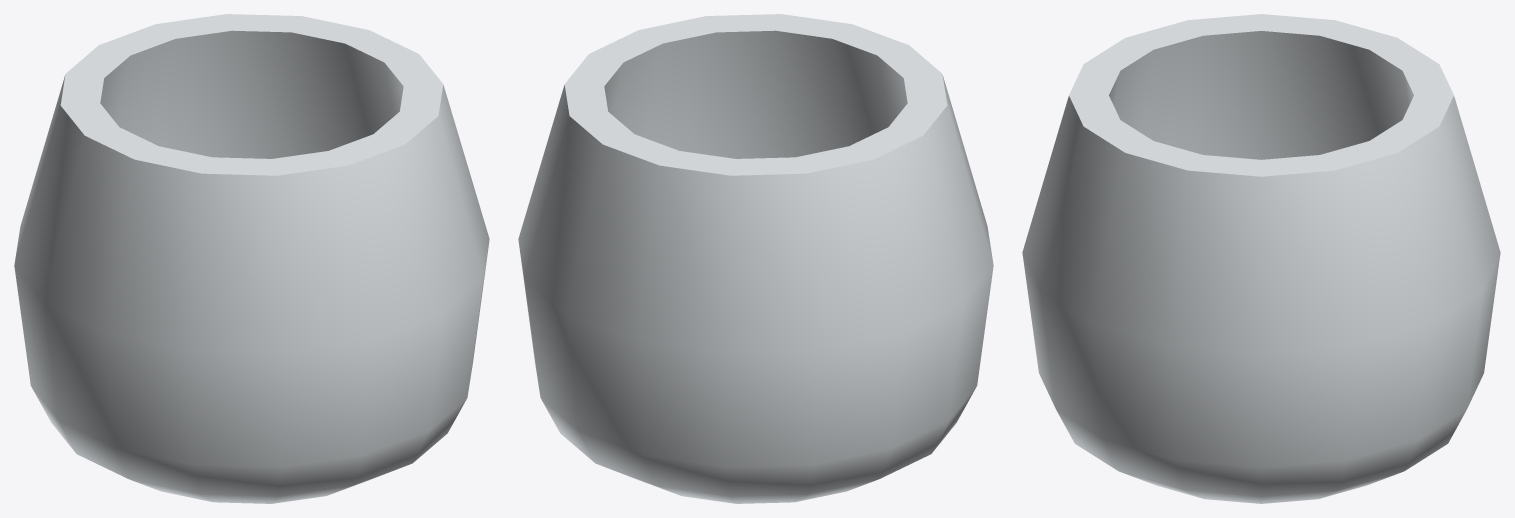
Rendered from SmallCandle.obj.
3 renders of one model, left to right at view 1: azimuth 30°, elevation 25°; view 2: azimuth 150°, elevation 25°; view 3: azimuth 270°, elevation 25°, orthographic.
Parts seen in each view (by area): view 1: SmallCandle_SmallCandleMesh; view 2: SmallCandle_SmallCandleMesh; view 3: SmallCandle_SmallCandleMesh.
Part boxes in pixels (x1,y1,x2,y2): SmallCandle_SmallCandleMesh: [14, 14, 489, 503]; SmallCandle_SmallCandleMesh: [518, 14, 993, 503]; SmallCandle_SmallCandleMesh: [1022, 14, 1500, 503].
Bounding box in the file's own units: 0.1357 × 0.1083 × 0.1357.
Materials: 1 (1 with a texture image).
